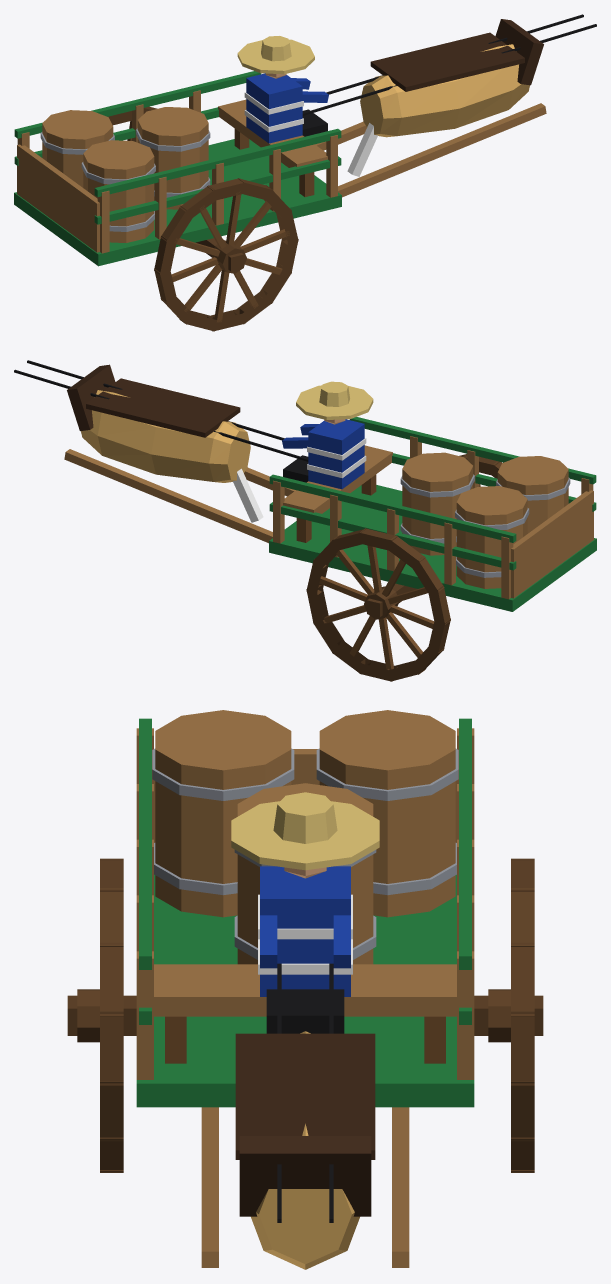
Rendered from carreta_bayo_body.obj.
3 renders of one model, top to bottom at view 1: azimuth 30°, elevation 25°; view 2: azimuth 150°, elevation 25°; view 3: azimuth 270°, elevation 25°, orthographic. The views are drawn at different scales.
Parts seen in each view (by area): view 1: carreta_bayo_body; view 2: carreta_bayo_body; view 3: carreta_bayo_body.
Part boxes in pixels (bbox=[...]): carreta_bayo_body: bbox=[14, 14, 596, 331]; carreta_bayo_body: bbox=[14, 360, 596, 681]; carreta_bayo_body: bbox=[67, 710, 543, 1269].
Size of the model in its own units: 5.7 by 2.29 by 2.2.
